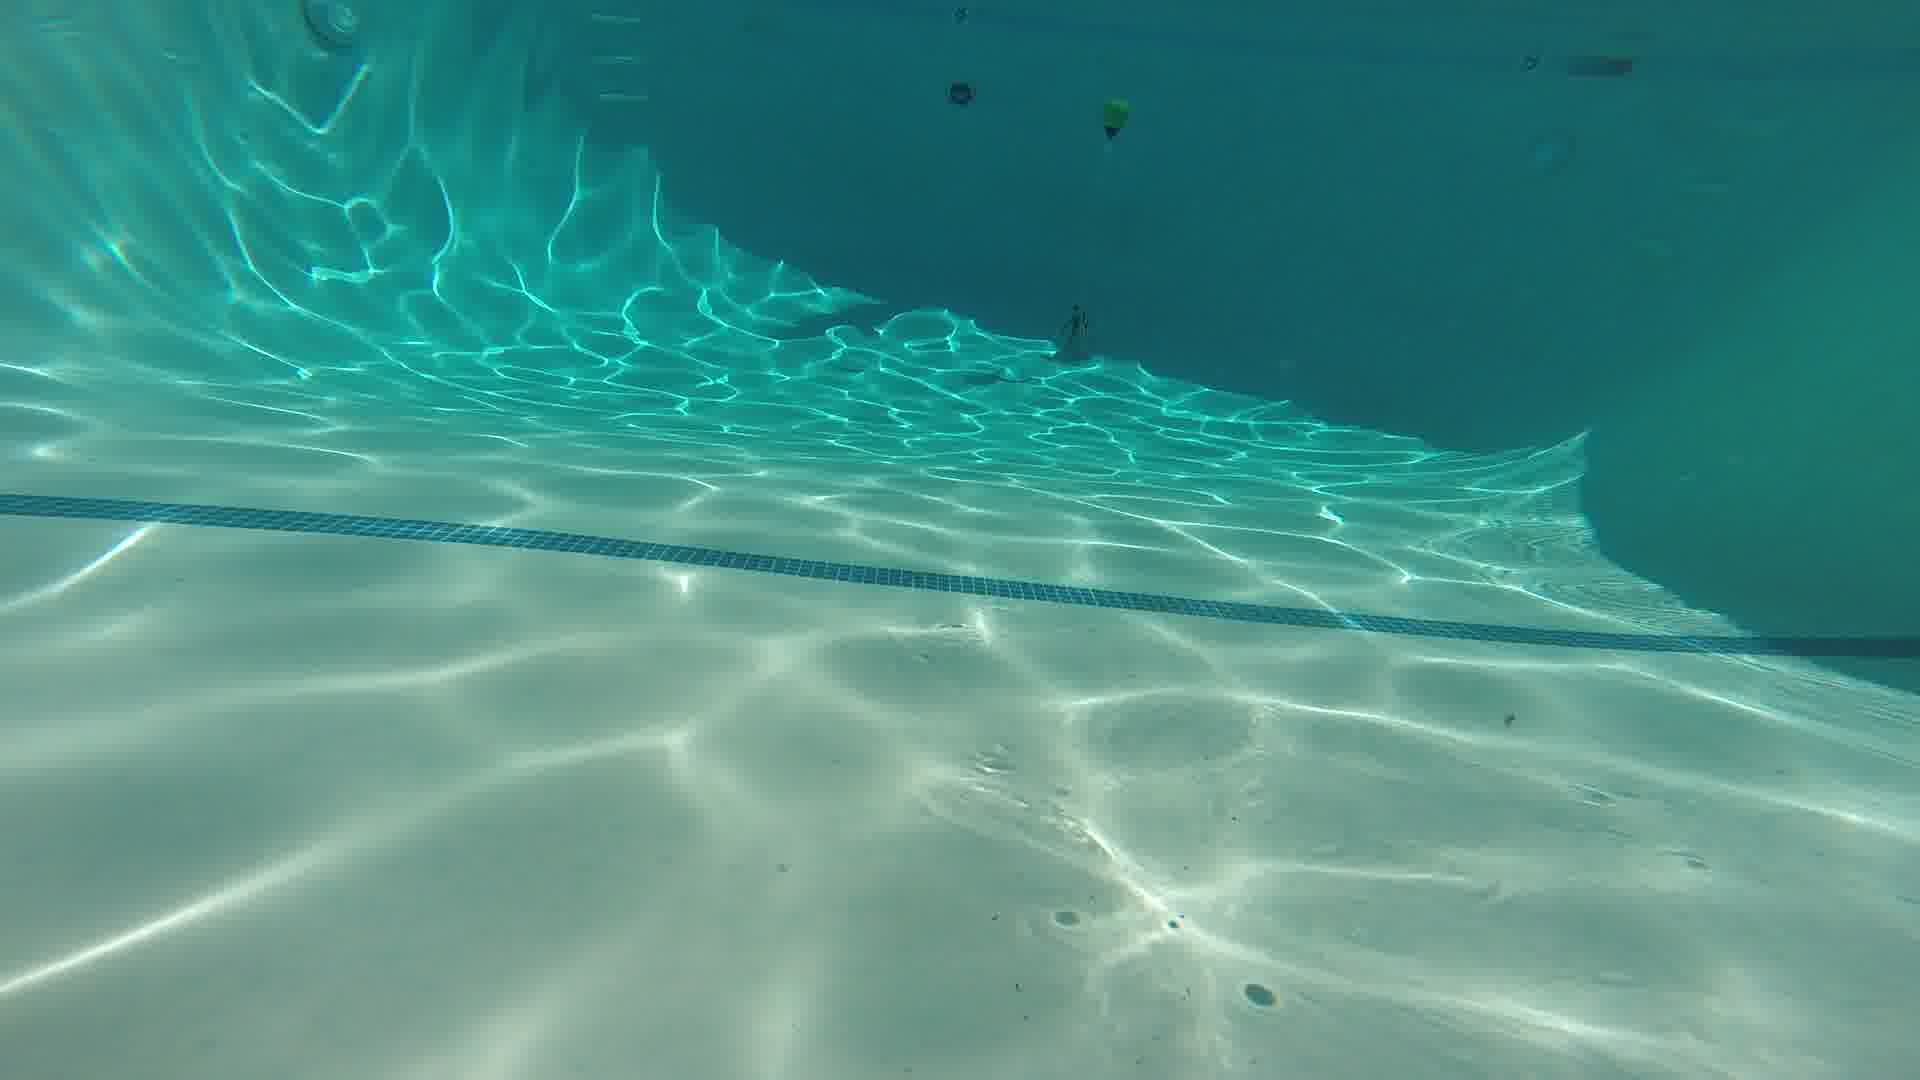yellow_buoy: (1096, 88, 1135, 157)
